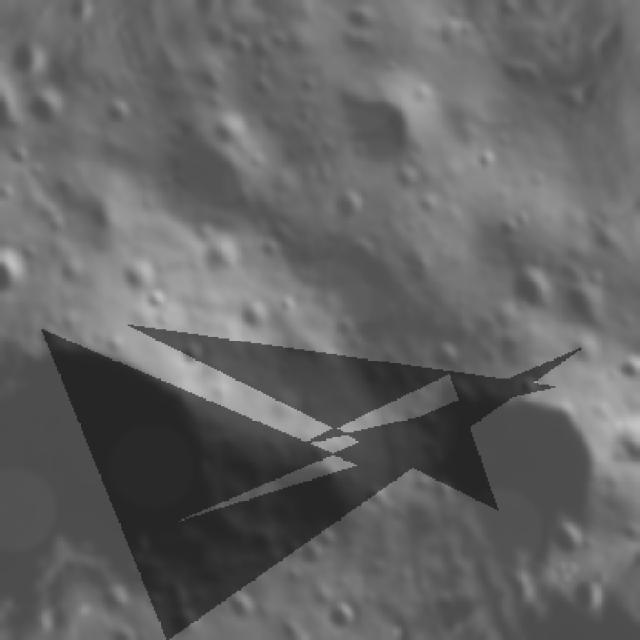crater: (0, 281, 255, 598), (380, 322, 640, 601), (314, 60, 444, 191), (490, 252, 561, 326), (550, 272, 619, 348), (594, 389, 640, 485), (191, 228, 252, 290), (210, 572, 267, 636), (534, 511, 592, 567), (414, 323, 468, 383), (0, 232, 40, 310), (323, 180, 377, 234), (501, 358, 554, 412), (286, 524, 336, 578), (232, 288, 280, 342), (598, 339, 640, 399), (209, 107, 256, 155), (316, 597, 367, 640), (333, 0, 382, 43), (217, 26, 261, 69), (0, 90, 34, 144), (420, 0, 462, 6)
